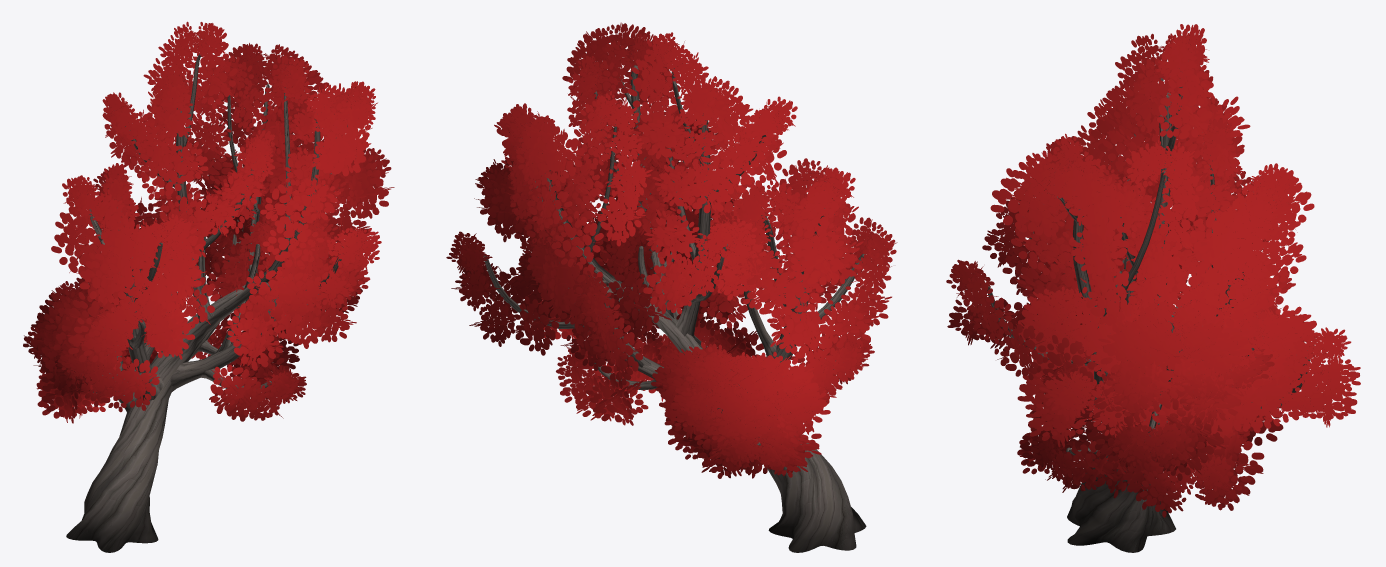
File: TwistedTree_1.glb
3 views of the same model, side by side, from view 1: azimuth 30°, elevation 25°; view 2: azimuth 150°, elevation 25°; view 3: azimuth 270°, elevation 25° (orthographic). The views are drawn at different scales.
Parts seen in each view (by area): view 1: TwistedTree_1; view 2: TwistedTree_1; view 3: TwistedTree_1.
Boxes of the visible parts, box(x1,y1,x2,y2) form: TwistedTree_1: box(23, 21, 394, 552); TwistedTree_1: box(446, 22, 897, 552); TwistedTree_1: box(946, 24, 1360, 552).
Size of the model in its own units: 13.52 by 16.73 by 11.55.
Materials: 2 (2 with a texture image).
